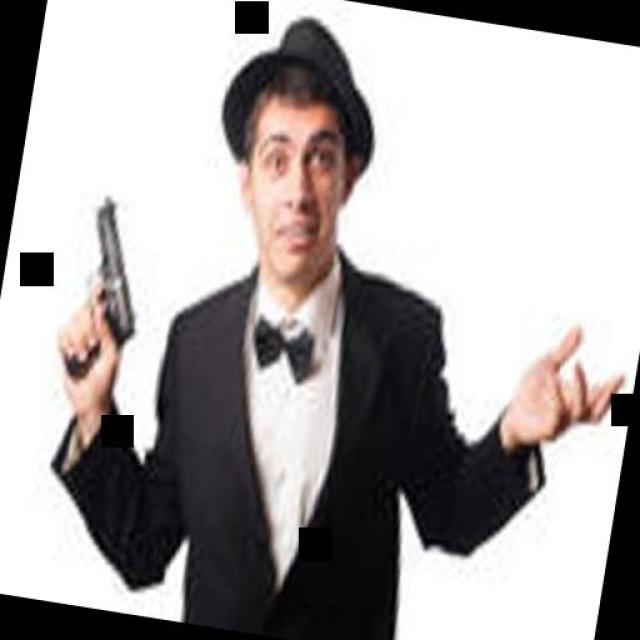gun: (39, 181, 152, 389)
